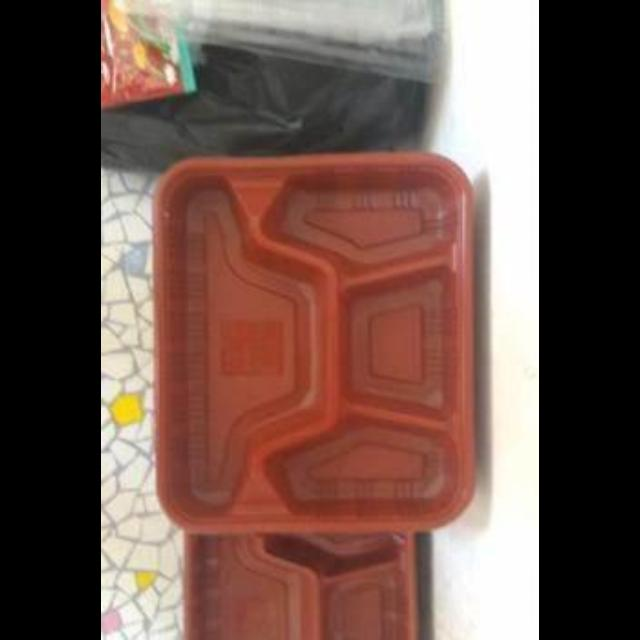plastic_box: (150, 148, 472, 528), (180, 528, 416, 634)
